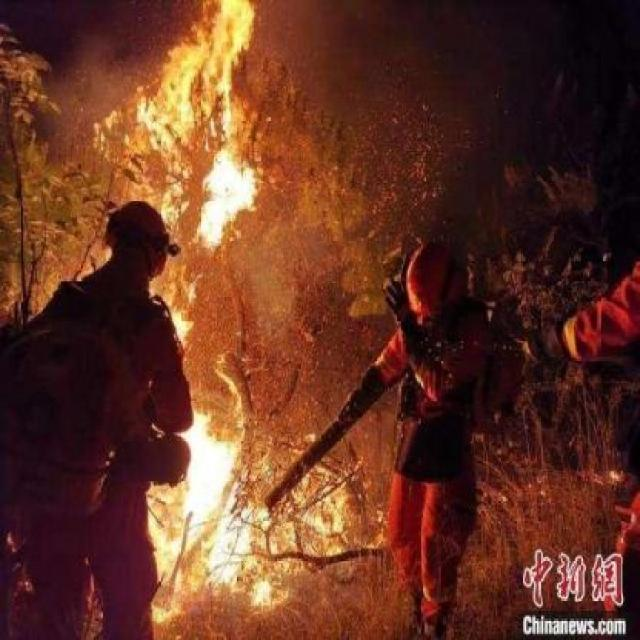Fire: (62, 6, 331, 270), (134, 349, 372, 604)
